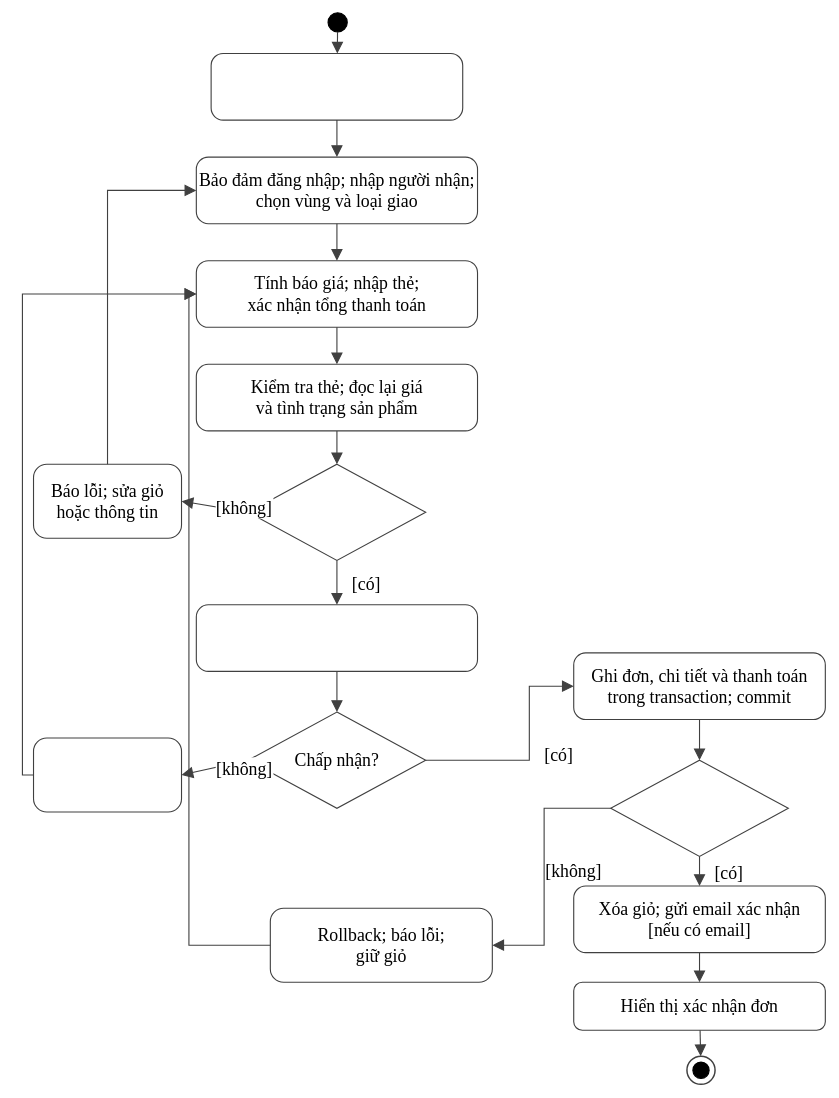
The diagram is 839 pixels wide and 1098 high, and some of its shapes have lost their labels. The shapes that lost their labels are listed below. From the top down, each one's box as (x1, y1, x2, y2) in pixels, then its label:
(210, 53, 463, 120): Chọn hàng, cập nhật giỏ
(247, 463, 426, 561): Dữ liệu hợp lệ?
(195, 604, 478, 672): Gọi dịch vụ thanh toán trực tuyến
(33, 737, 182, 812): Báo từ chối; giữ giỏ
(610, 759, 789, 857): Lưu thành công?
